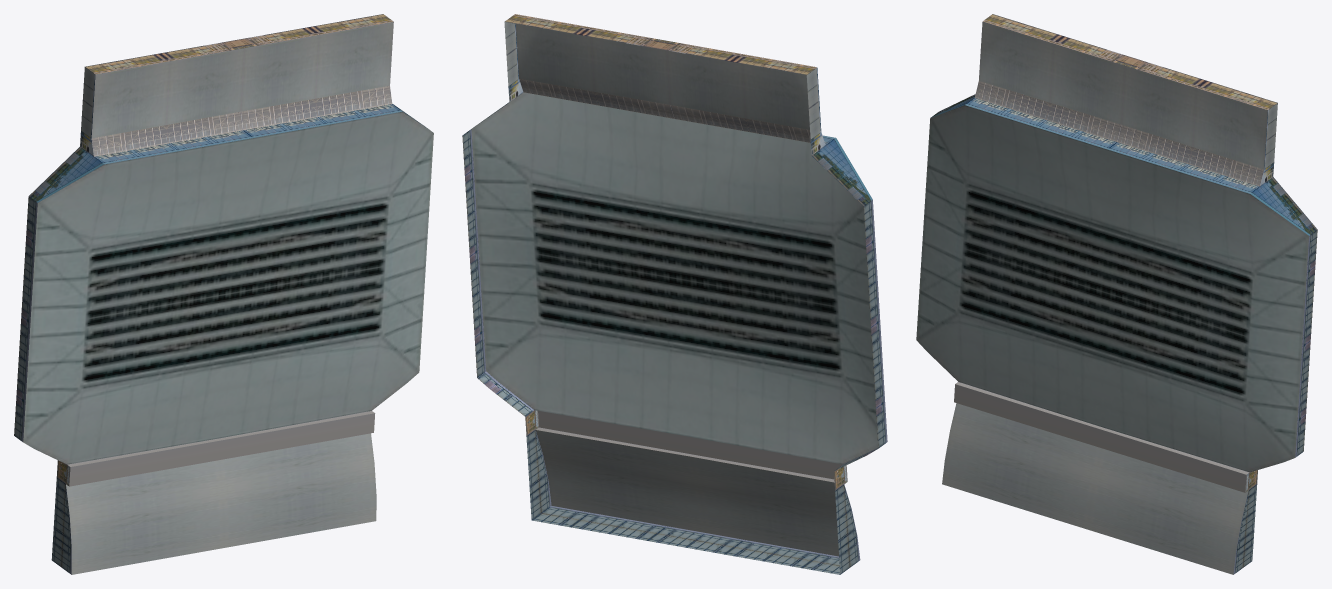
Rendered from DEU_598_KARLSRUHE_EUROPAH_L.OBJ.
3 views of the same model, side by side, from view 1: azimuth 30°, elevation 25°; view 2: azimuth 150°, elevation 25°; view 3: azimuth 330°, elevation 25° (orthographic). The views are drawn at different scales.
Visible parts, largest first — view 1: DEU_598_KARLSRUHE_EUROPAH_L; view 2: DEU_598_KARLSRUHE_EUROPAH_L; view 3: DEU_598_KARLSRUHE_EUROPAH_L.
Boxes of the visible parts, bbox=[...] form: DEU_598_KARLSRUHE_EUROPAH_L: bbox=[14, 14, 433, 574]; DEU_598_KARLSRUHE_EUROPAH_L: bbox=[462, 14, 887, 574]; DEU_598_KARLSRUHE_EUROPAH_L: bbox=[916, 14, 1317, 574].
Bounding box in the file's own units: 93.86 × 110 × 9.67.
Materials: 1 (1 with a texture image).
